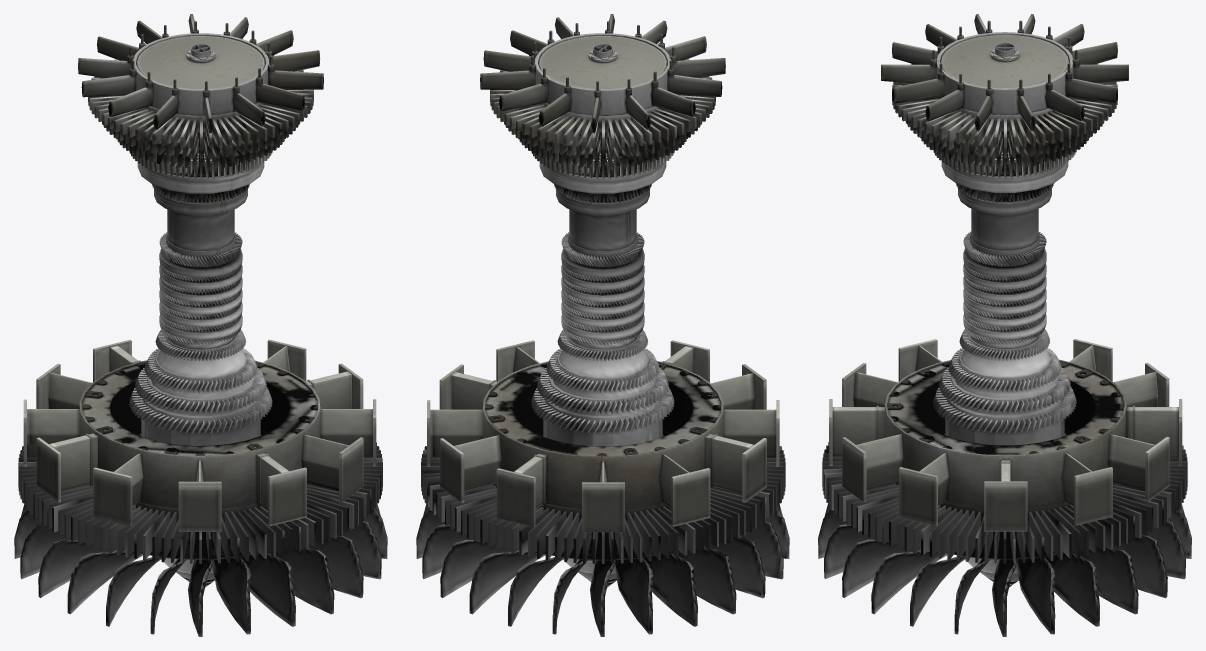
File: AreoEngine-06.obj
The picture shows the model from 3 angles, left to right: view 1: azimuth 30°, elevation 25°; view 2: azimuth 150°, elevation 25°; view 3: azimuth 270°, elevation 25°; orthographic projection.
Parts seen in each view (by area): view 1: AreoEngine_06; view 2: AreoEngine_06; view 3: AreoEngine_06.
Boxes of the visible parts, bbox=[...] form: AreoEngine_06: bbox=[14, 14, 387, 636]; AreoEngine_06: bbox=[416, 14, 789, 636]; AreoEngine_06: bbox=[818, 14, 1191, 636].
Bounding box in the file's own units: 1.53 × 2.45 × 1.53.
7 materials, 7 textured.
